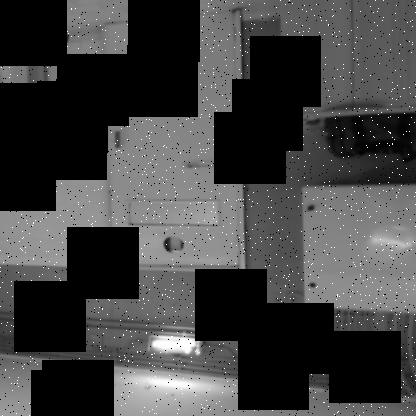Porte: (98, 7, 251, 275)
